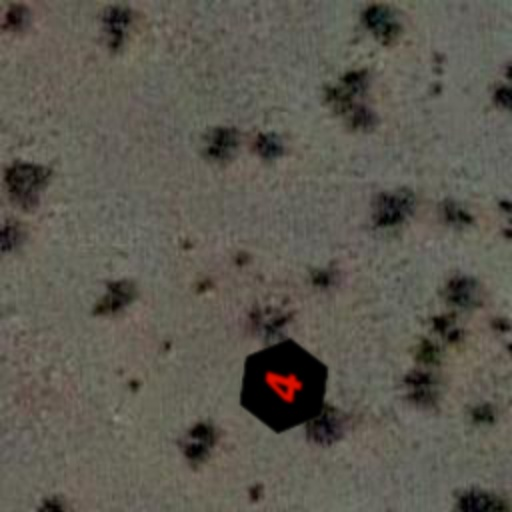hexagon: (228, 330, 340, 442)
